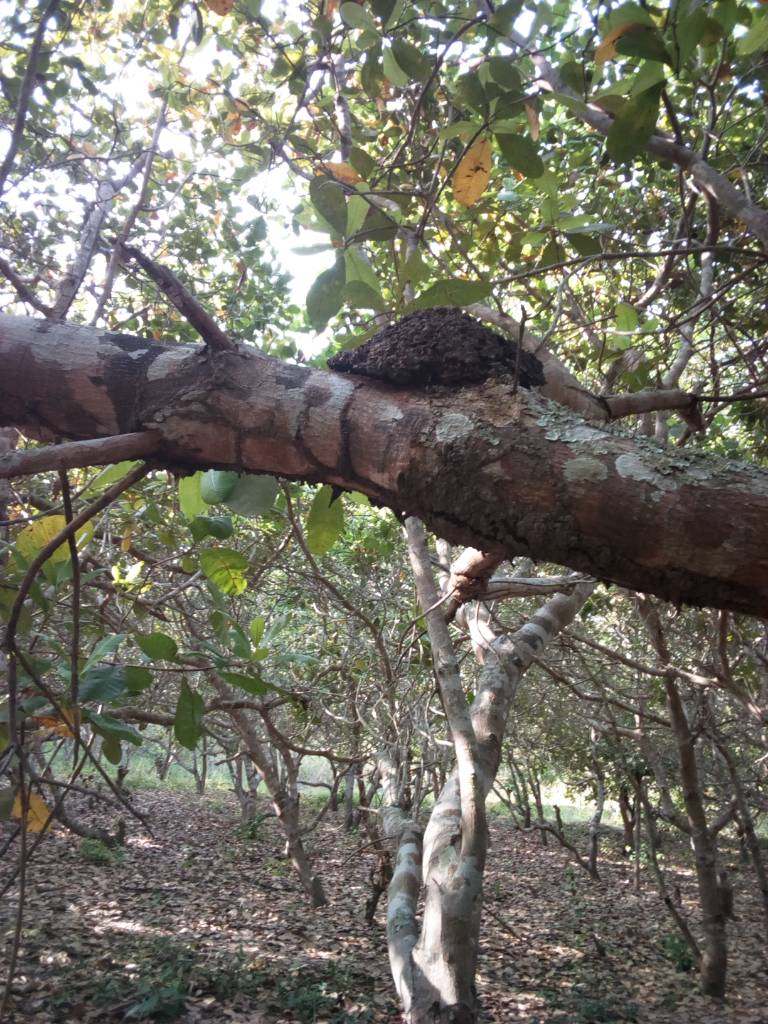Termites: (350, 302, 543, 389)
